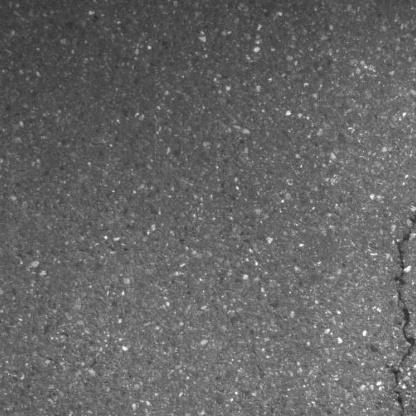Cracks: (384, 193, 416, 416)
